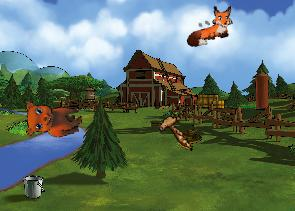bear: (20, 91, 85, 143)
eagle: (146, 105, 200, 151)
fox: (180, 2, 239, 49)
